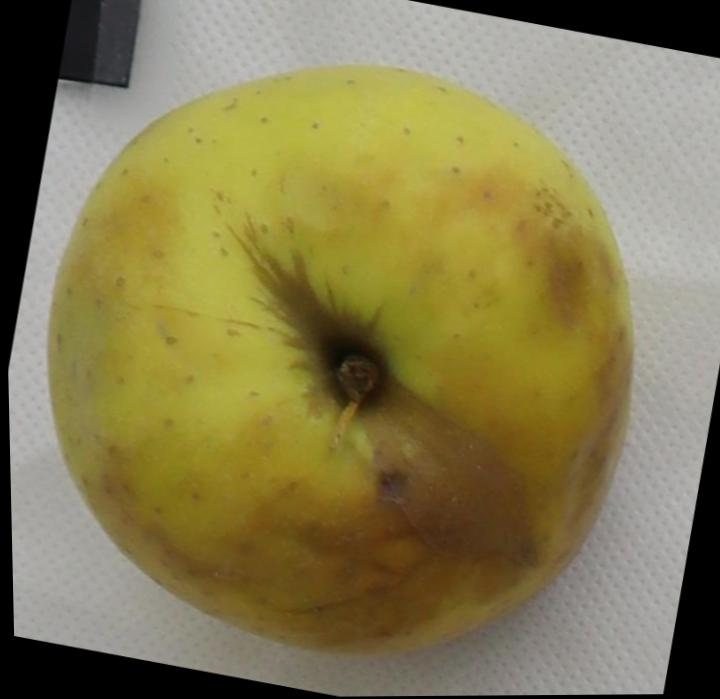apple: (48, 64, 632, 651)
rot_mold_decay: (225, 447, 430, 637), (365, 382, 531, 556), (311, 294, 386, 386), (243, 240, 311, 340)
